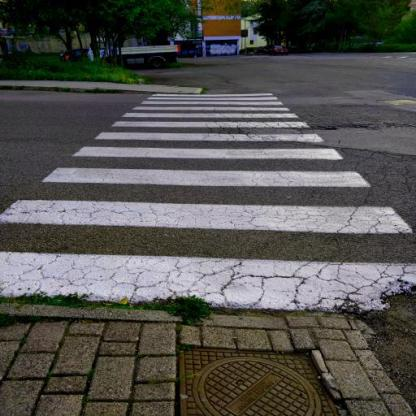crosswalk: (37, 143, 381, 191), (116, 104, 306, 122)
